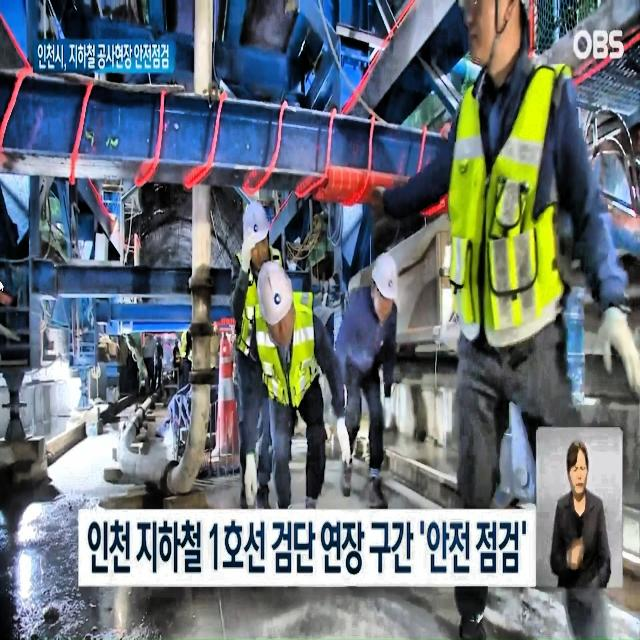safety_helmet: (255, 255, 296, 329), (371, 249, 400, 308), (242, 206, 274, 259)
safety_jacket: (452, 66, 578, 342), (258, 292, 318, 410), (234, 248, 286, 363)
